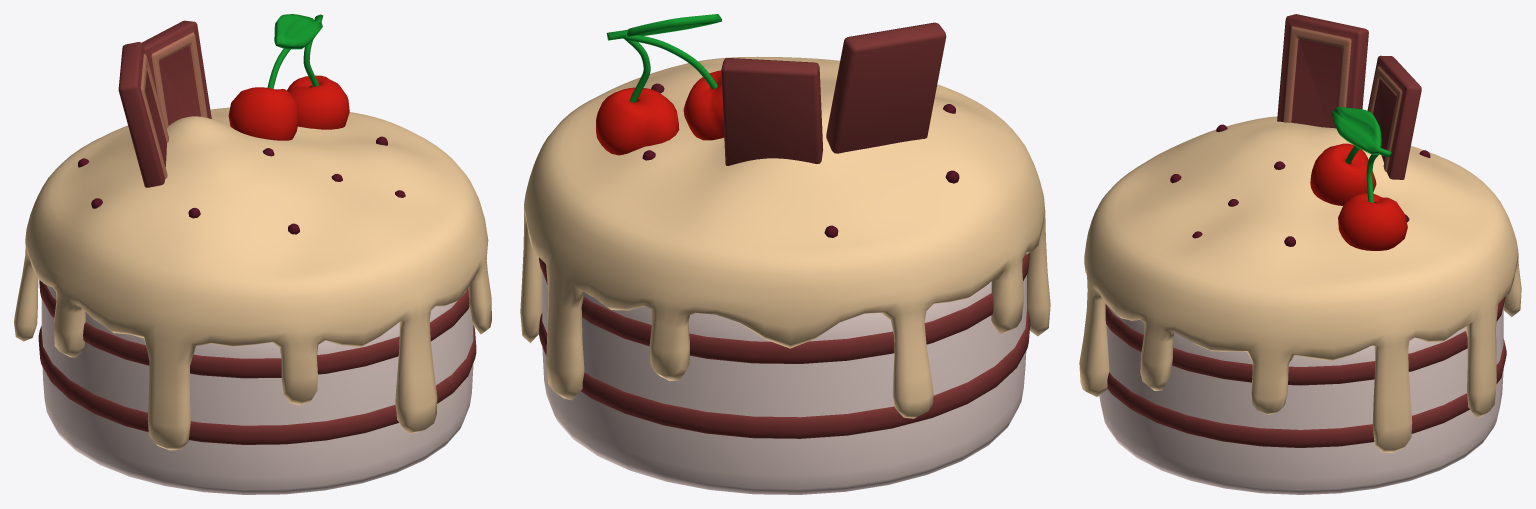
File: Upgraded_cherry_cake_.fbx
The picture shows the model from 3 angles, left to right: view 1: azimuth 30°, elevation 25°; view 2: azimuth 150°, elevation 25°; view 3: azimuth 270°, elevation 25°; orthographic projection. The views are drawn at different scales.
Parts seen in each view (by area): view 1: Upgraded cherry cake; view 2: Upgraded cherry cake; view 3: Upgraded cherry cake.
Boxes of the visible parts, box(x1,y1,x2,y2) form: Upgraded cherry cake: box(14, 14, 491, 494); Upgraded cherry cake: box(520, 14, 1050, 494); Upgraded cherry cake: box(1079, 14, 1521, 494).
Size of the model in its own units: 1.77 by 1.77 by 1.51.
